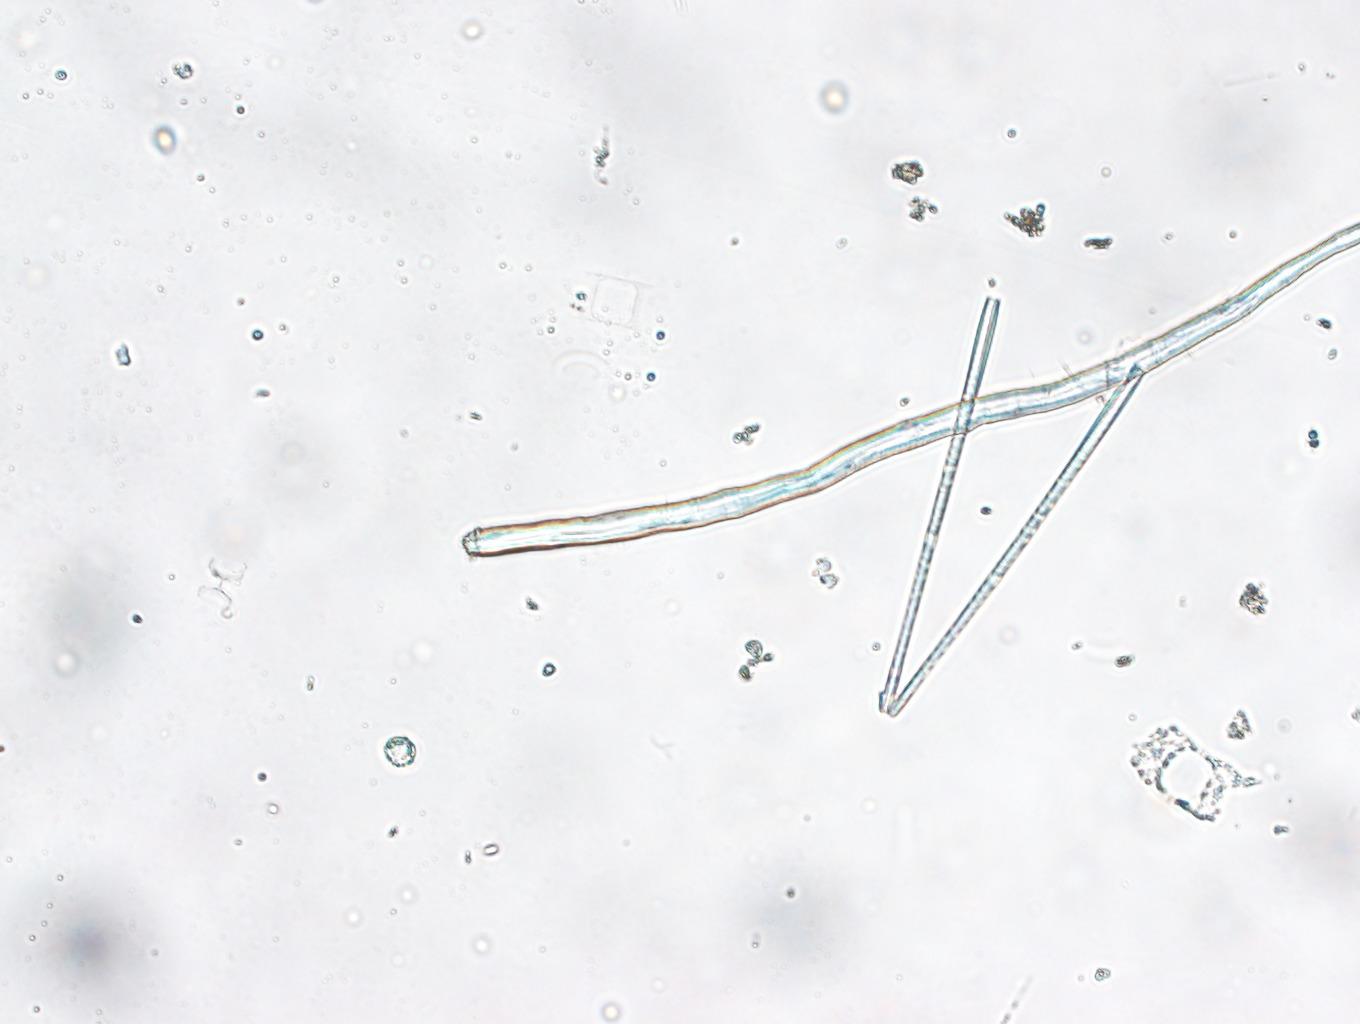thalassionema frauenfeldii: (876, 286, 1145, 720)
